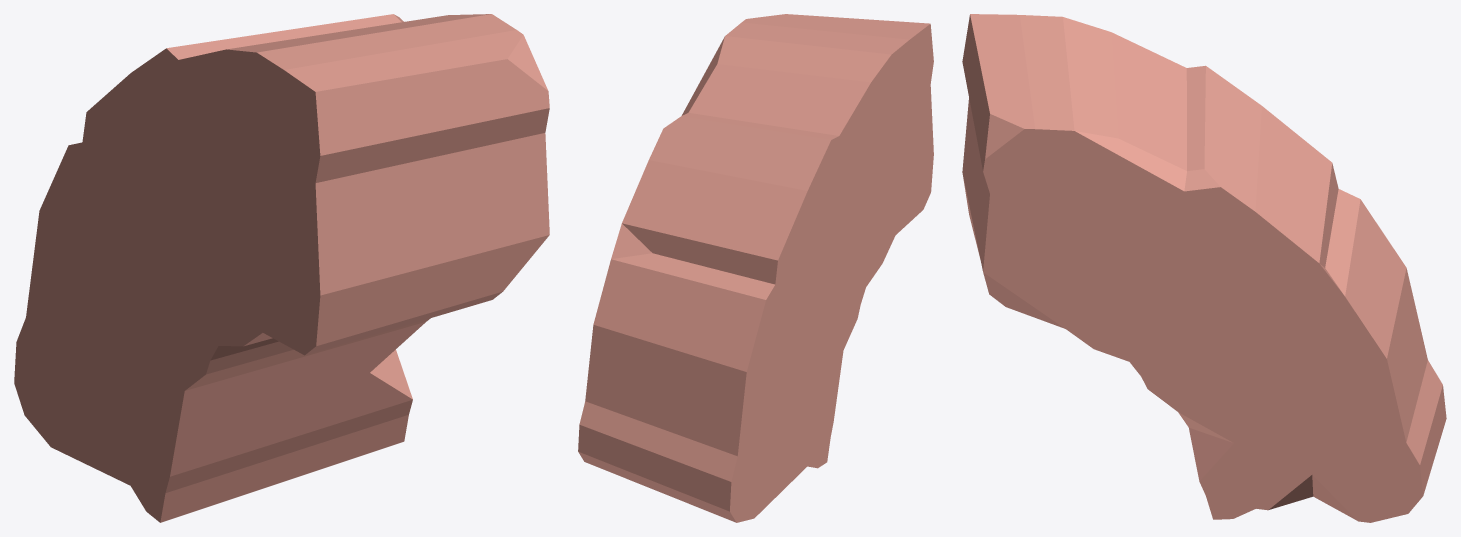
Rendered from SuperGrid_RingQuarter_014_Vlad.fbx.
3 renders of one model, left to right at view 1: azimuth 30°, elevation 25°; view 2: azimuth 150°, elevation 25°; view 3: azimuth 270°, elevation 25°, orthographic. The views are drawn at different scales.
Parts seen in each view (by area): view 1: SuperGrid_RingQuarter.014; view 2: SuperGrid_RingQuarter.014; view 3: SuperGrid_RingQuarter.014.
Boxes of the visible parts, left/top/right/bottom form: SuperGrid_RingQuarter.014: left=14, top=14, right=549, bottom=522; SuperGrid_RingQuarter.014: left=578, top=14, right=933, bottom=522; SuperGrid_RingQuarter.014: left=962, top=14, right=1446, bottom=522.
Bounding box in the file's own units: 10000 × 21632 × 21869.
